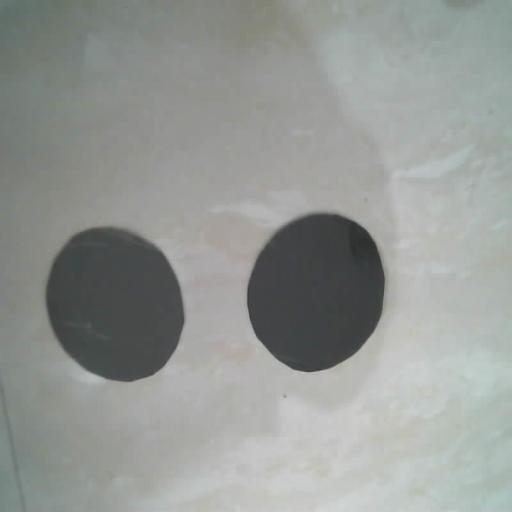pothole: (246, 212, 386, 374), (44, 226, 186, 382)
